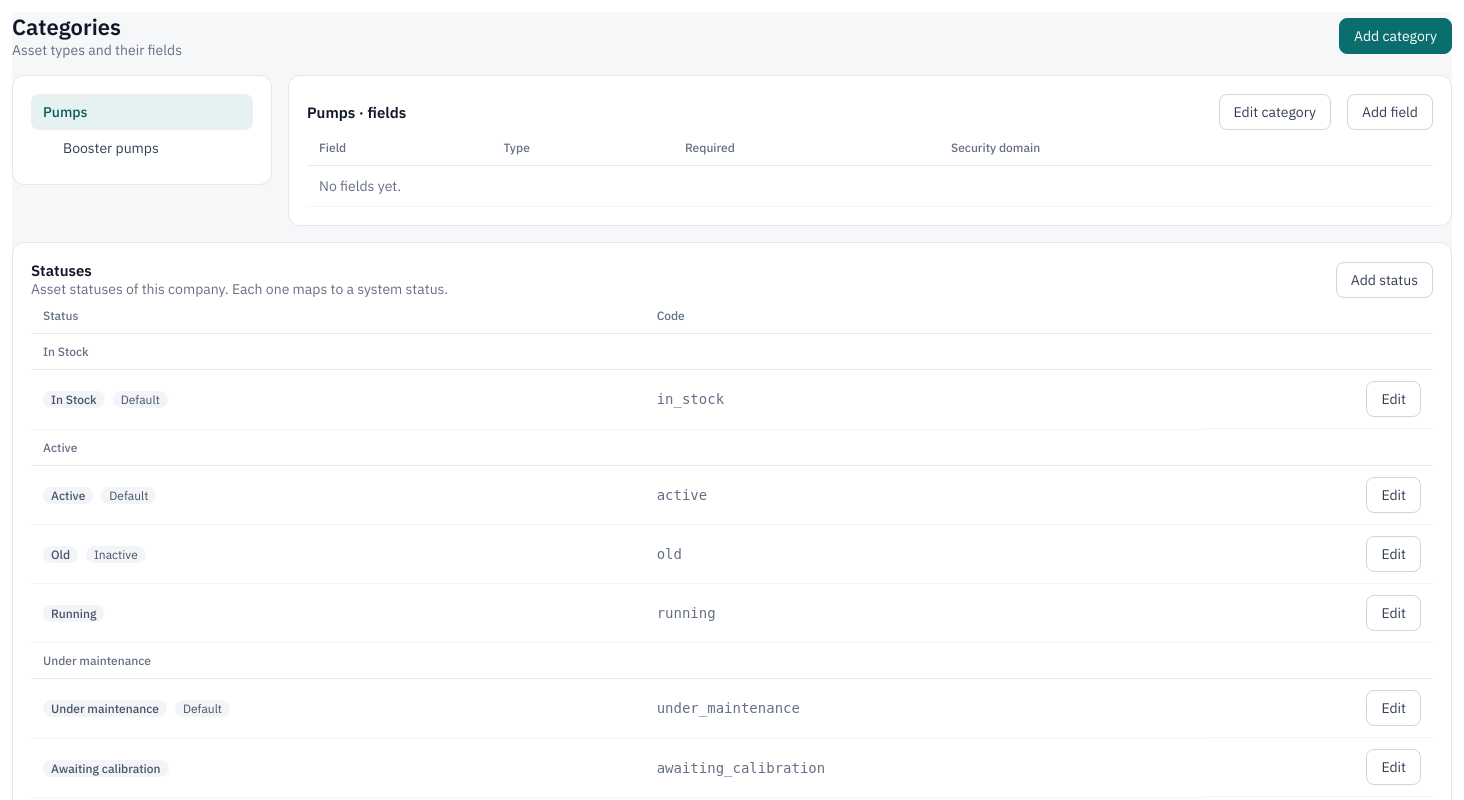
it: a duplicate name shows its own message
Click the button "Edit category" at (1275, 112), box [1219,94,1331,130]
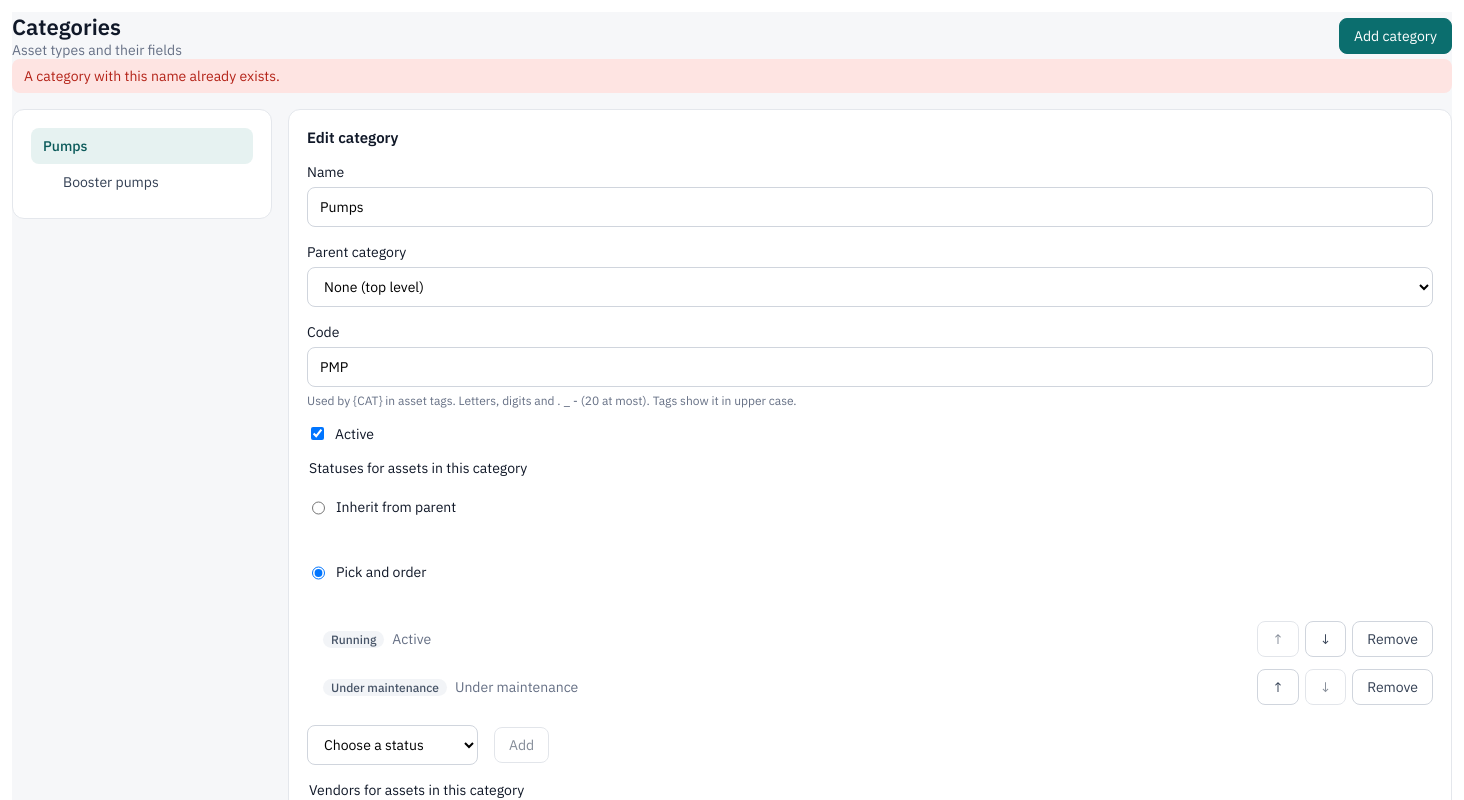
Expected: the message "A category with this name already exists." is shown, [12,59,1452,93]
